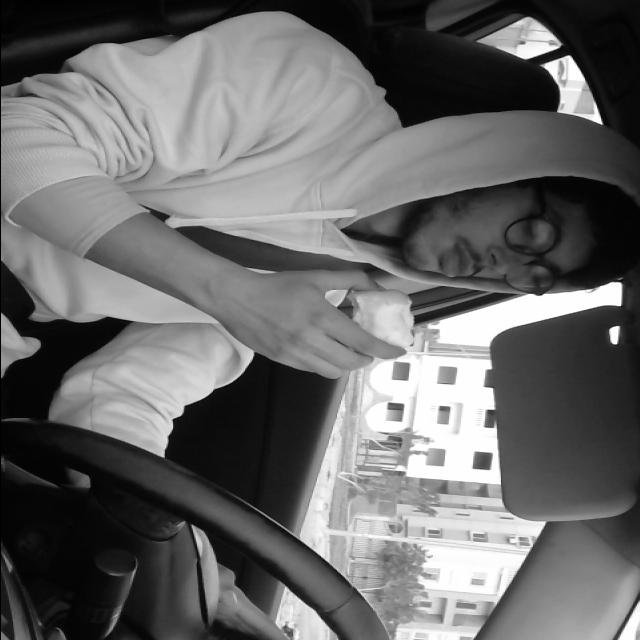eating: (351, 289, 421, 367)
